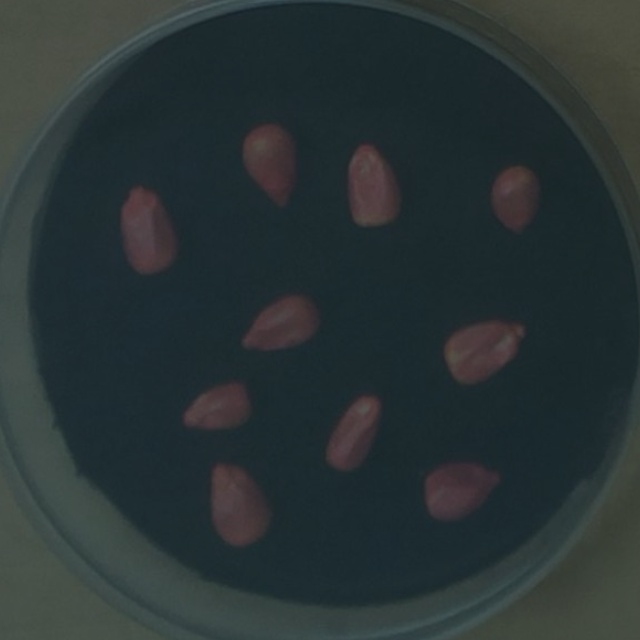Zea mays: (201, 453, 281, 554), (437, 313, 533, 395), (112, 179, 187, 283), (232, 115, 305, 218), (414, 453, 508, 532), (232, 284, 327, 360), (338, 138, 411, 236), (317, 387, 391, 482), (173, 370, 259, 439), (484, 157, 550, 242)
